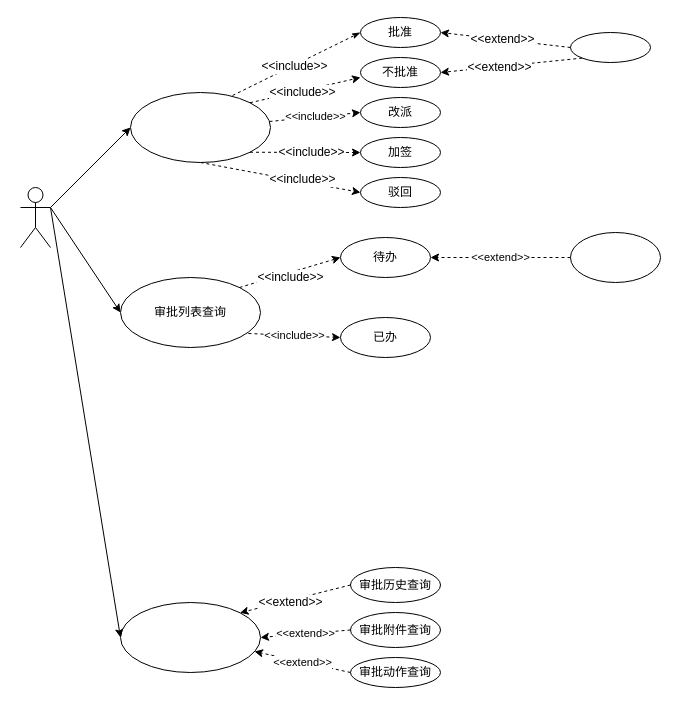
This 678x705 diagram has some shape labels left out. Here are the shapes that lost their labels. From the top down, the box of each, then its label:
(570, 32, 650, 62): 指派
(130, 92, 270, 162): 审批动作
(20, 186, 50, 248): 审批人
(570, 232, 660, 282): 超过一天的待办
(120, 602, 260, 672): 审批明细查询
